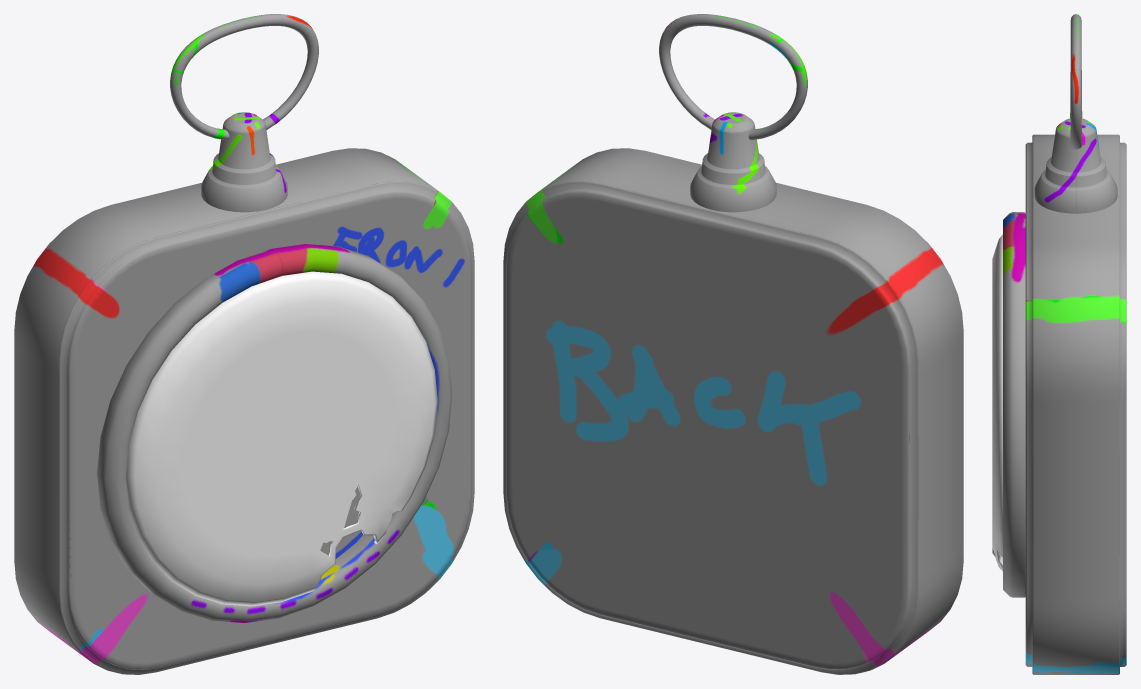
File: pocket_watch.glb
3 views of the same model, side by side, from view 1: azimuth 30°, elevation 25°; view 2: azimuth 150°, elevation 25°; view 3: azimuth 270°, elevation 25° (orthographic). The views are drawn at different scales.
Visible parts, largest first — view 1: watch; view 2: watch; view 3: watch.
Boxes of the visible parts, x1,y1,x2,y2 form: watch: [14, 14, 474, 674]; watch: [503, 14, 963, 674]; watch: [992, 14, 1126, 674].
Bounding box in the file's own units: 0.1816 × 0.2547 × 0.053.
2 materials, 1 textured.
